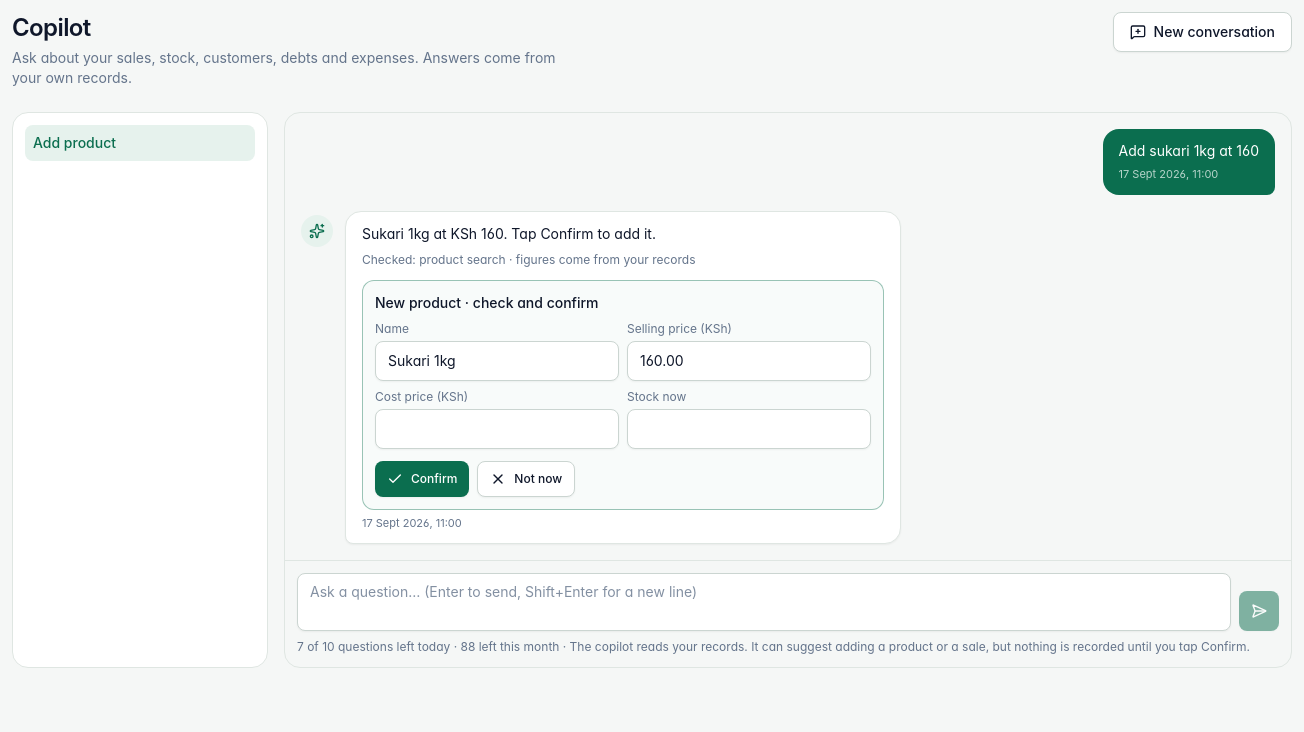
Scenario: ProposalCard › shows the proposal as editable fields and sends the edited payload on Confirm, then locks the card
The image size is (1304, 732).
Expected: the text "Sukari 1kg at KSh 160. Tap Confirm to add it." is shown, 362,225 -> 656,242
Expected: the text "Checked: product search · figures come from your records" is shown, 362,252 -> 696,267
Replace the text in the field labelled "Selling price (KSh)" with "165" at (749, 361), box 627,341 -> 871,381
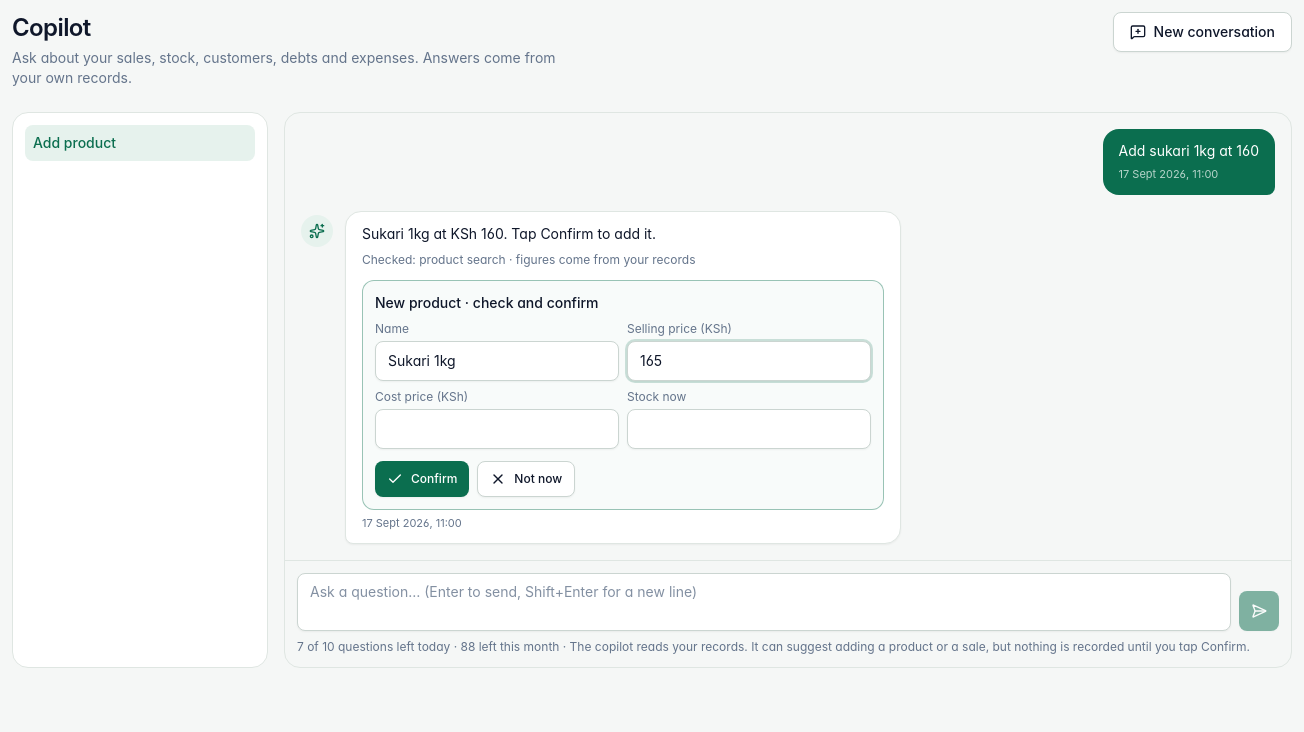
Type "12" into the field labelled "Stock now" at (749, 429), box 627,409 -> 871,449
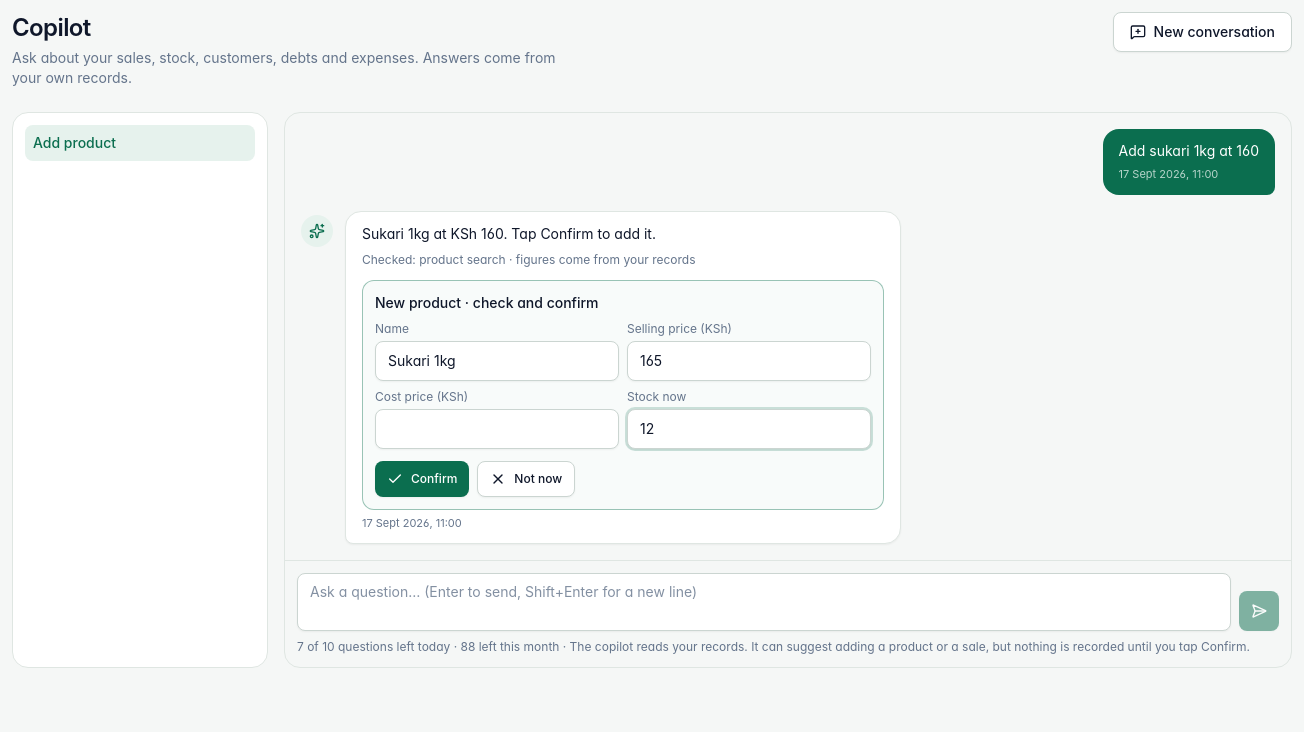
Click the button "Confirm" at (422, 479), box 375,461 -> 469,497
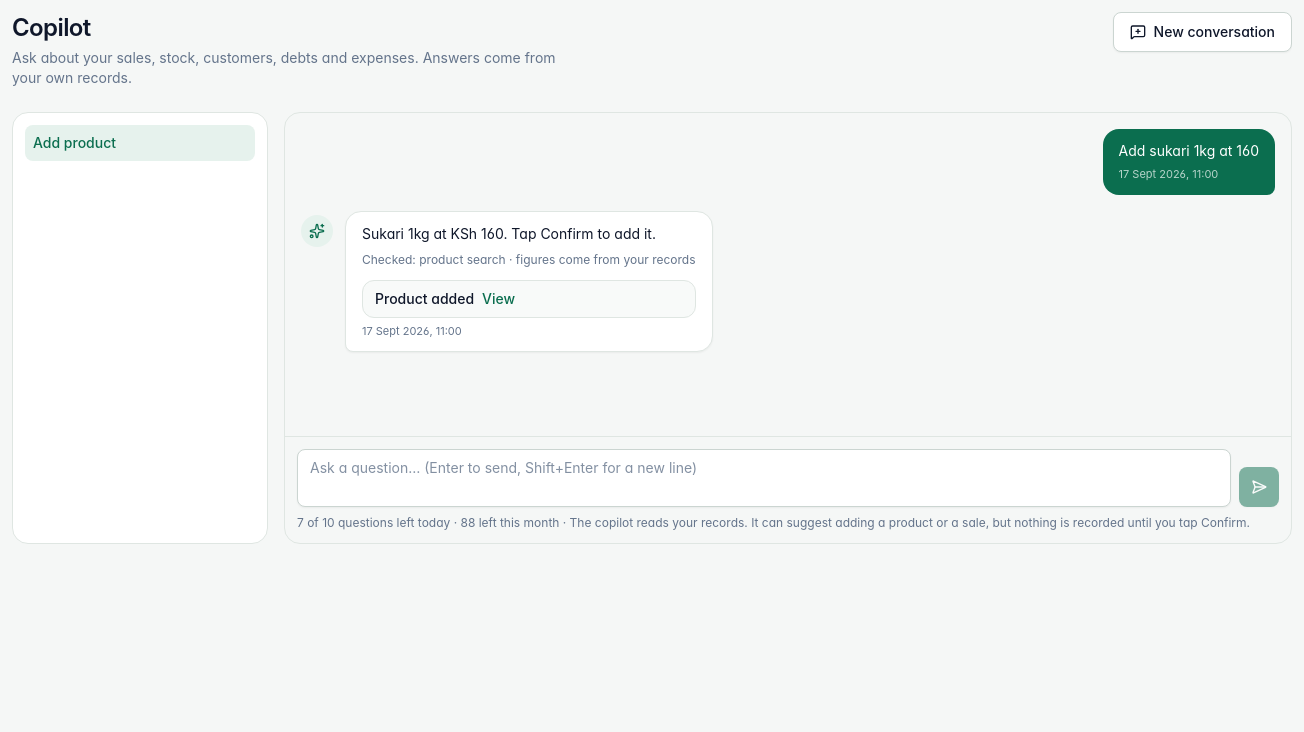
Now the text "Product added" is shown, box 375,290 -> 474,307
